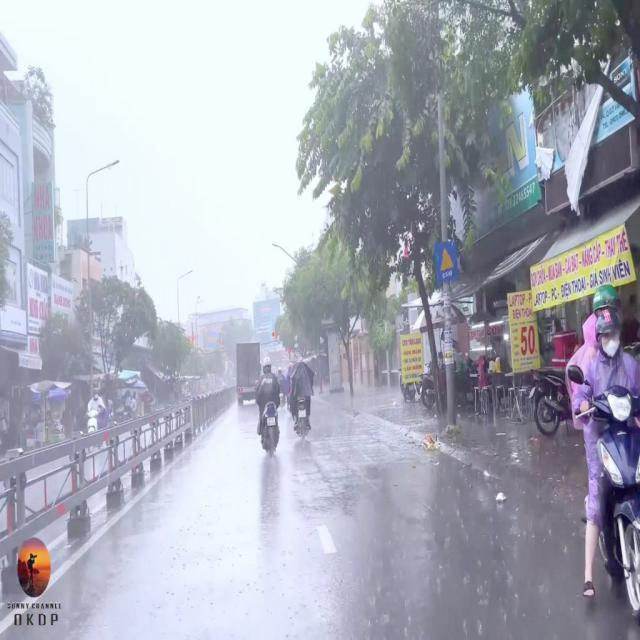442-cho: (436, 242, 458, 283)
